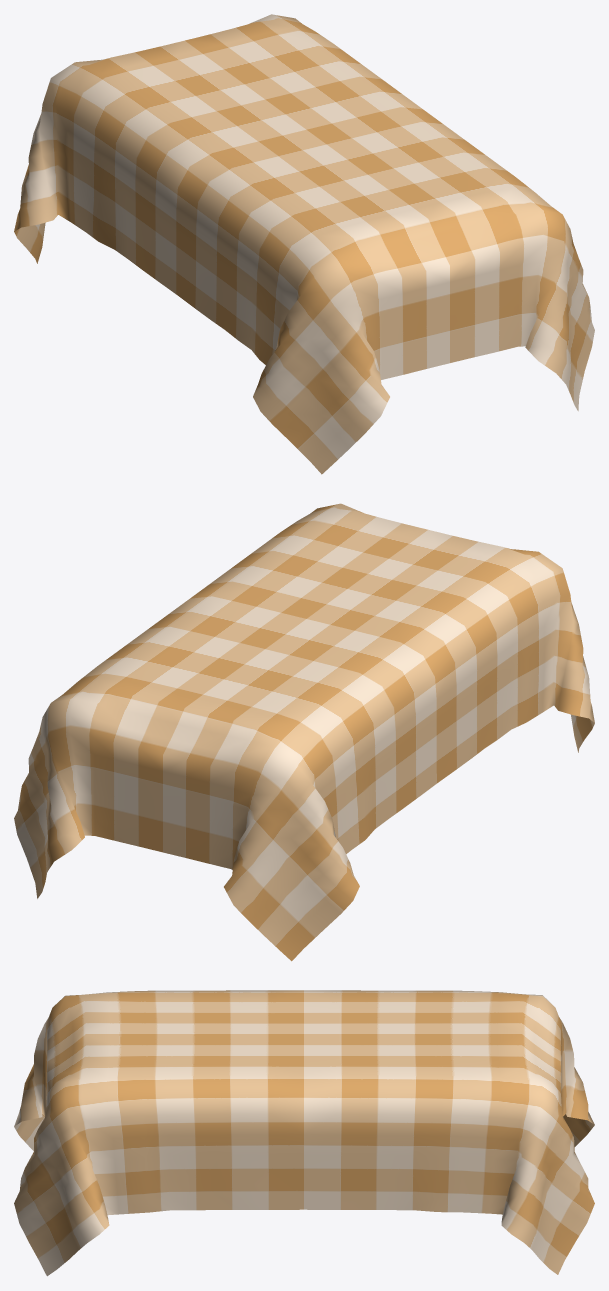
The model's file is TableCloth.fbx.
3 views of the same model, one above another, from view 1: azimuth 30°, elevation 25°; view 2: azimuth 150°, elevation 25°; view 3: azimuth 270°, elevation 25° (orthographic). The views are drawn at different scales.
Parts seen in each view (by area): view 1: TableCloth_GAME; view 2: TableCloth_GAME; view 3: TableCloth_GAME.
Boxes of the visible parts, x1=… form: TableCloth_GAME: x1=14, y1=14, x2=594, y2=474; TableCloth_GAME: x1=14, y1=503, x2=594, y2=961; TableCloth_GAME: x1=14, y1=990, x2=594, y2=1276.
Size of the model in its own units: 722 by 424 by 1196.
